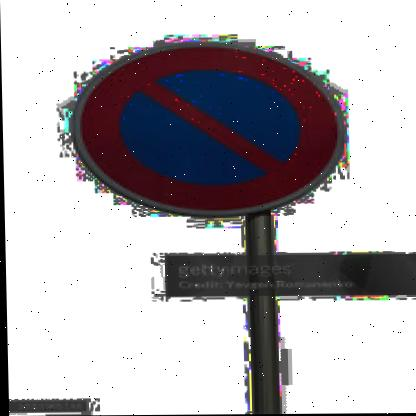No parking: (58, 37, 350, 221)
